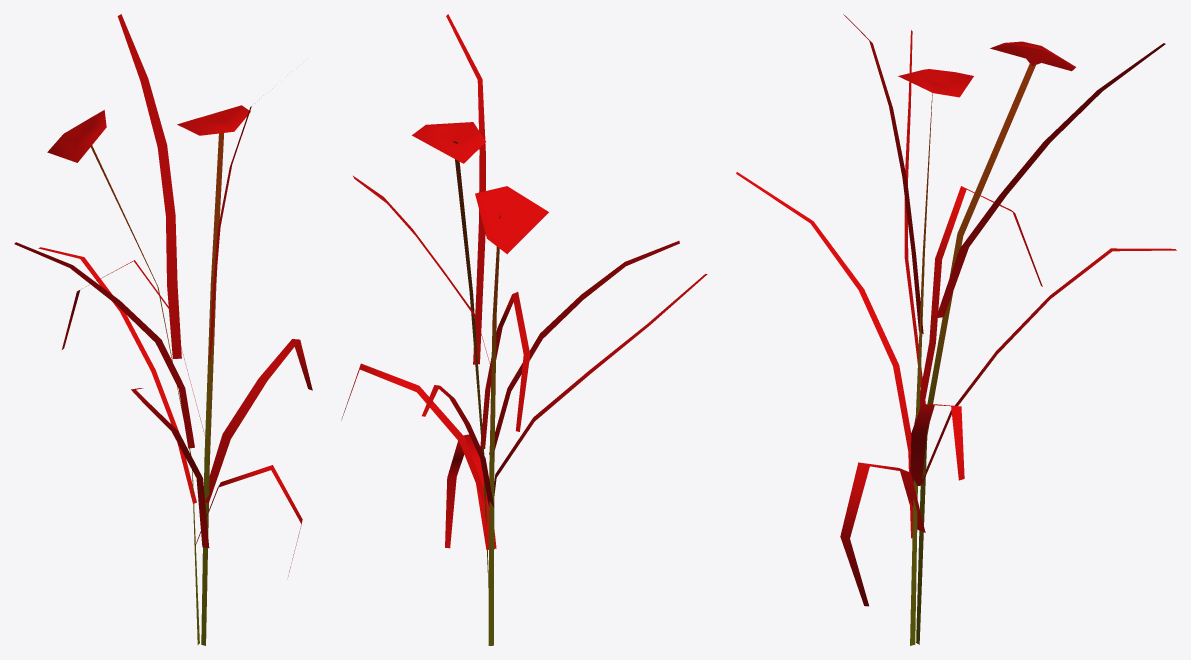
The model's file is Var15_LOD2.fbx.
3 renders of one model, left to right at view 1: azimuth 30°, elevation 25°; view 2: azimuth 150°, elevation 25°; view 3: azimuth 270°, elevation 25°, orthographic. The views are drawn at different scales.
Visible parts, largest first — view 1: _epku_Var15_LOD2; view 2: _epku_Var15_LOD2; view 3: _epku_Var15_LOD2.
Boxes of the visible parts, box(x1,y1,x2,y2) form: _epku_Var15_LOD2: box(14, 14, 312, 645); _epku_Var15_LOD2: box(341, 14, 707, 645); _epku_Var15_LOD2: box(736, 14, 1176, 645).
Bounding box in the file's own units: 9.65 × 17.09 × 10.16.
